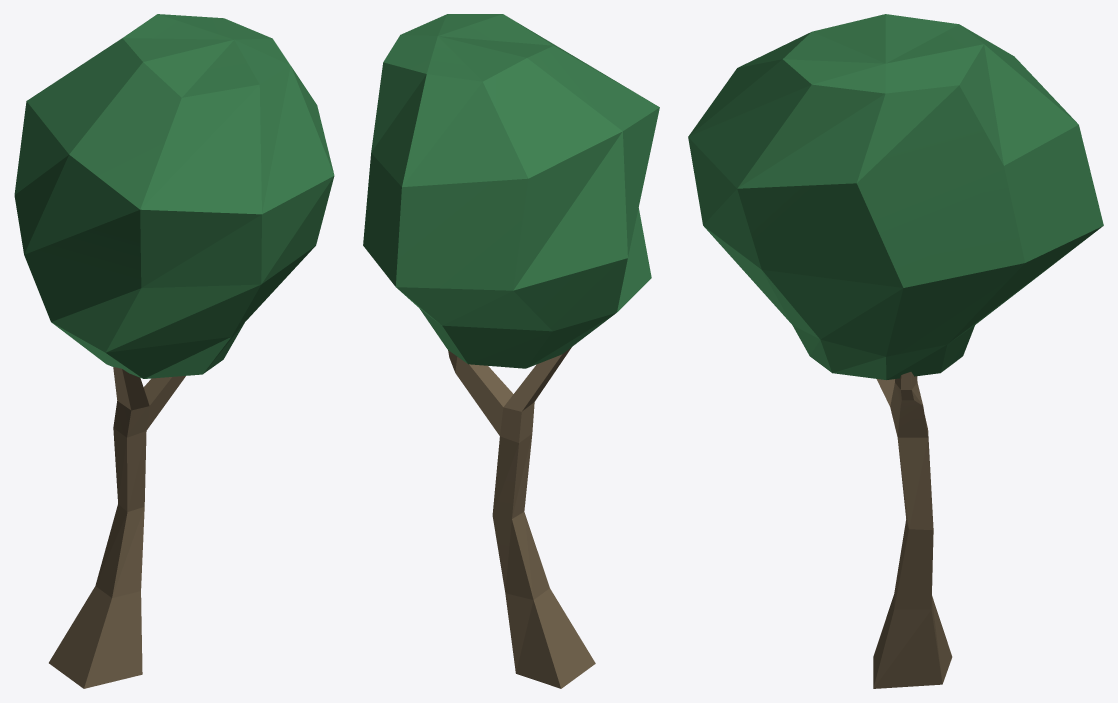
The model's file is Birch_A.fbx.
3 renders of one model, left to right at view 1: azimuth 30°, elevation 25°; view 2: azimuth 150°, elevation 25°; view 3: azimuth 270°, elevation 25°, orthographic. The views are drawn at different scales.
Visible parts, largest first — view 1: Birch_A; view 2: Birch_A; view 3: Birch_A.
Part boxes in pixels (box(x1,y1,x2,y2)): Birch_A: box(14, 14, 334, 688); Birch_A: box(363, 14, 659, 688); Birch_A: box(688, 14, 1103, 688).
Size of the model in its own units: 108 by 231 by 128.
